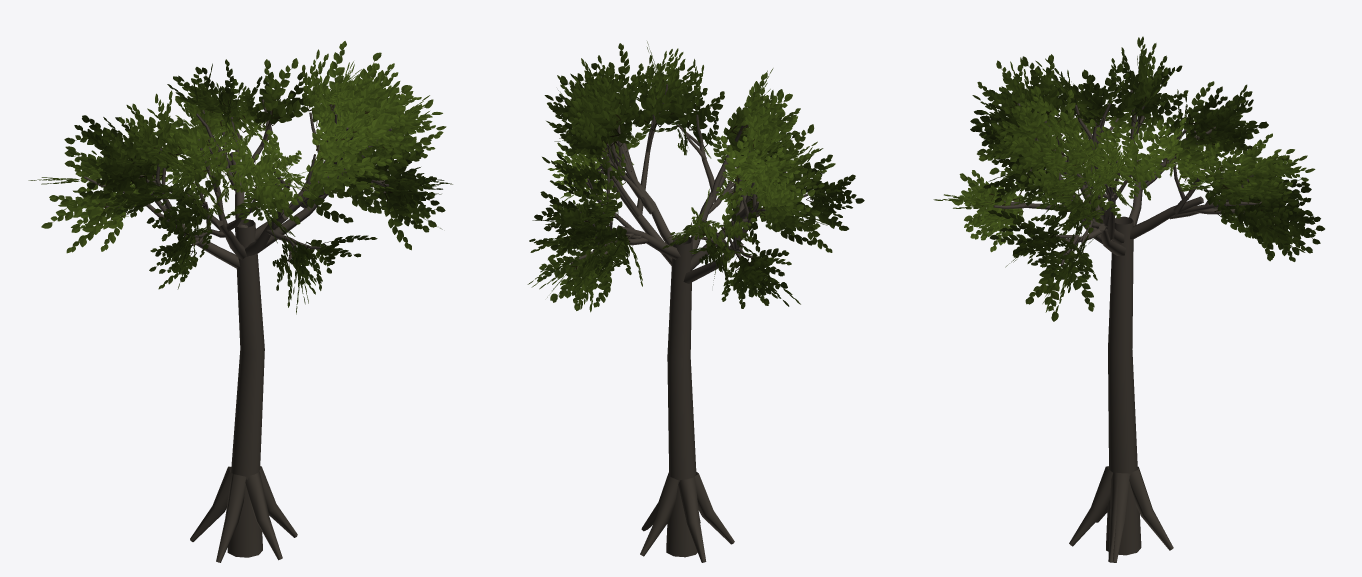
The model's file is jungle_tree_2_burnt2.glb.
3 views of the same model, side by side, from view 1: azimuth 30°, elevation 25°; view 2: azimuth 150°, elevation 25°; view 3: azimuth 270°, elevation 25° (orthographic). The views are drawn at different scales.
Visible parts, largest first — view 1: jungle_tree_2_burnt2; view 2: jungle_tree_2_burnt2; view 3: jungle_tree_2_burnt2.
Boxes of the visible parts, x1,y1,x2,y2 form: jungle_tree_2_burnt2: [28, 41, 452, 562]; jungle_tree_2_burnt2: [527, 41, 864, 562]; jungle_tree_2_burnt2: [933, 36, 1324, 562].
Size of the model in its own units: 12.95 by 16.86 by 13.1.
Materials: 2 (1 with a texture image).
